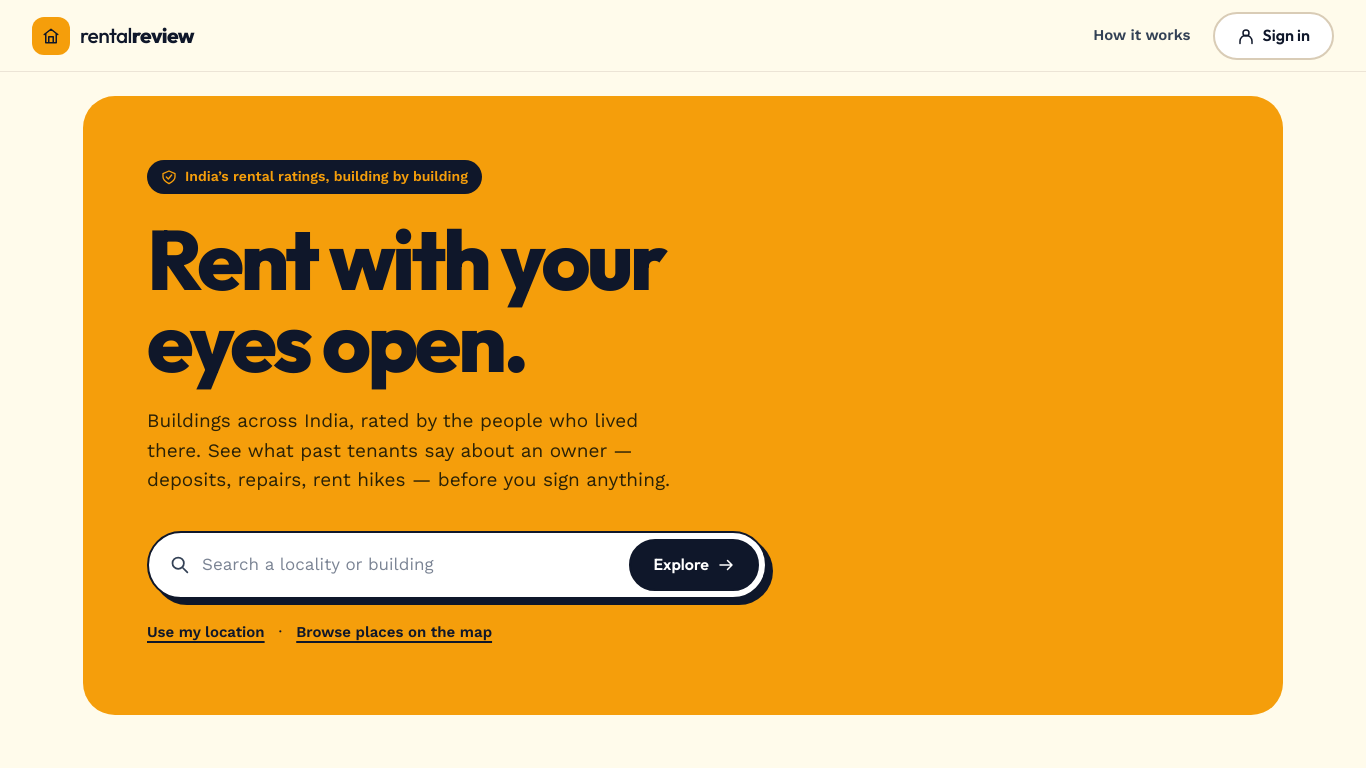
Test: Rental Review › says when nothing matches and when suggestions fail
Type "Unknown" into the dropdown named "Search for a locality". click: (410, 565)
box: [202,540,617,590]
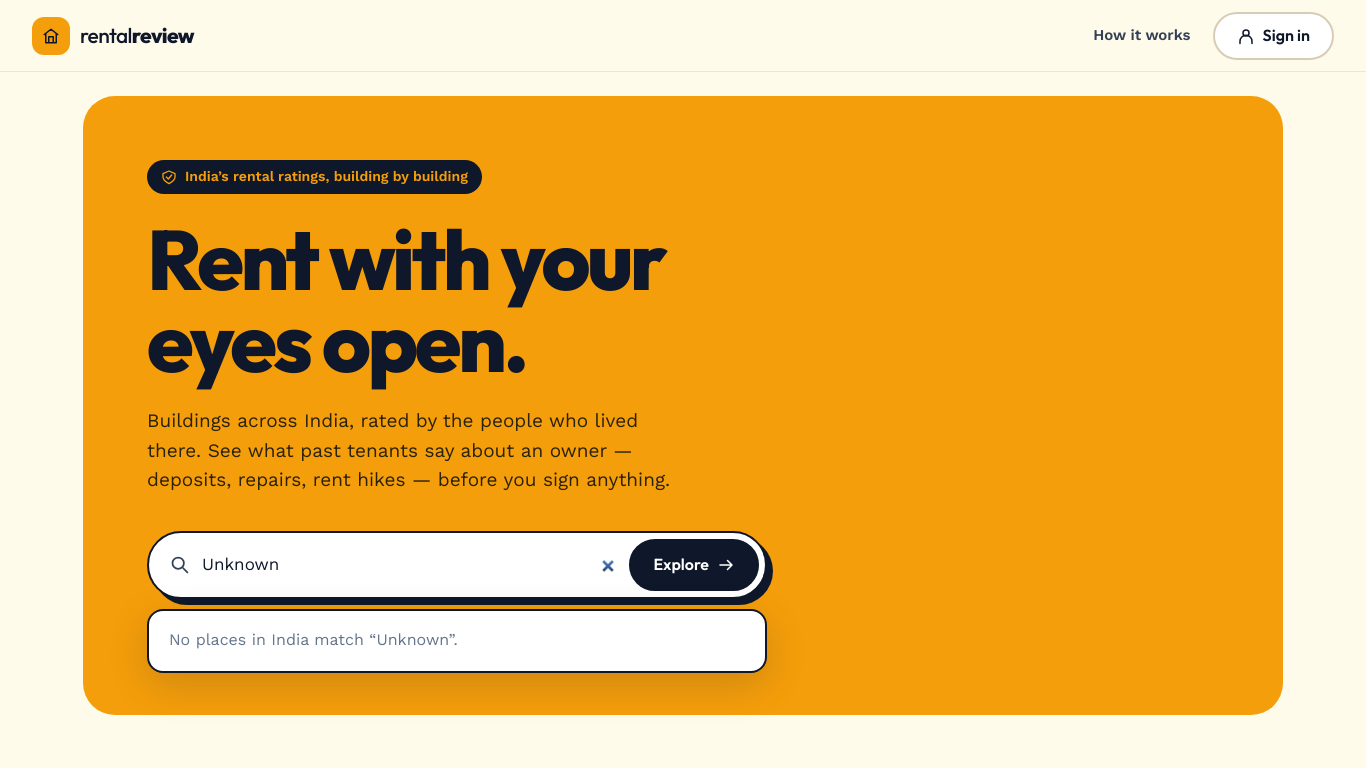
Now the text "No places in India match “Unknown”." is shown, box [169,630,458,649]
Type "x" into the dropdown named "Search for a locality". click: (410, 565)
box: [202,540,617,590]
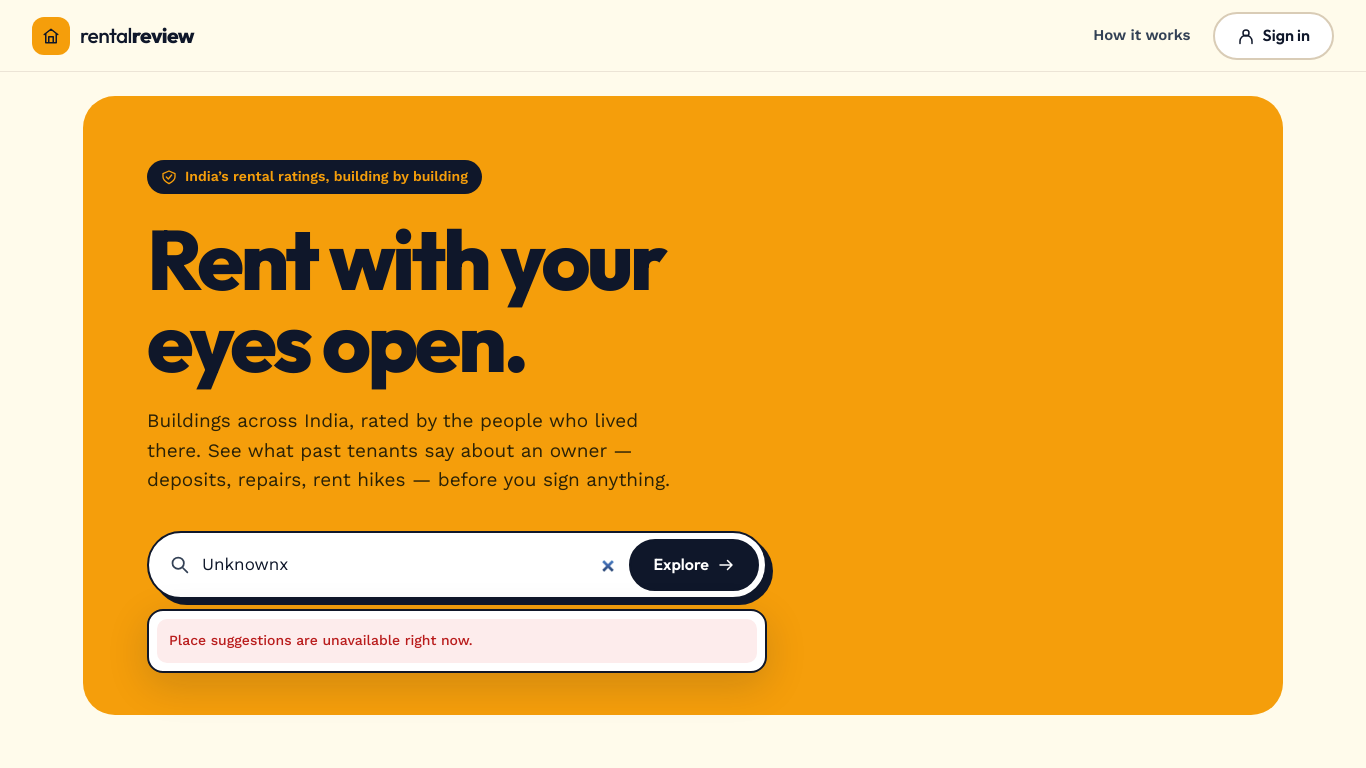
Now the text "Place suggestions are unavailable right now." is shown, box [157,619,757,663]
